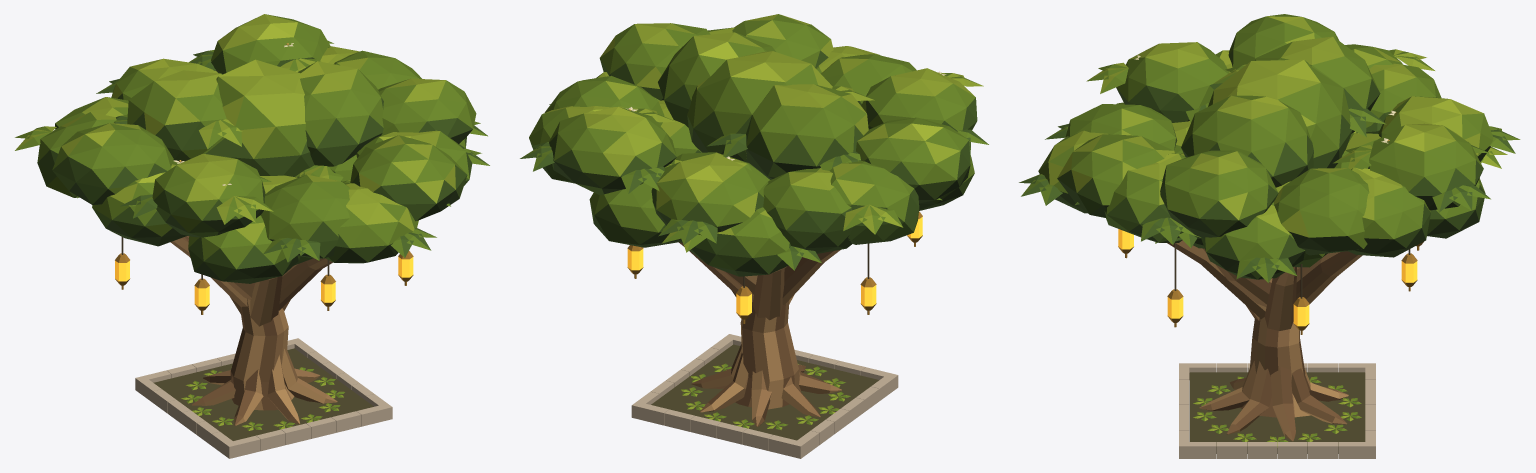
The model's file is tree_banyan.glb.
3 renders of one model, left to right at view 1: azimuth 30°, elevation 25°; view 2: azimuth 150°, elevation 25°; view 3: azimuth 270°, elevation 25°, orthographic. The views are drawn at different scales.
Parts seen in each view (by area): view 1: canopy, body, lanterns; view 2: canopy, body, lanterns; view 3: canopy, body, lanterns.
Part boxes in pixels (x1,y1,x2,y2): canopy: [15, 14, 489, 283]; body: [135, 236, 392, 458]; lanterns: [115, 237, 413, 314]; canopy: [520, 14, 988, 276]; body: [631, 242, 898, 458]; lanterns: [627, 211, 922, 323]; canopy: [1019, 14, 1520, 282]; body: [1167, 240, 1375, 458]; lanterns: [1118, 229, 1423, 334].
Size of the model in its own units: 11.45 by 8.73 by 11.61.
